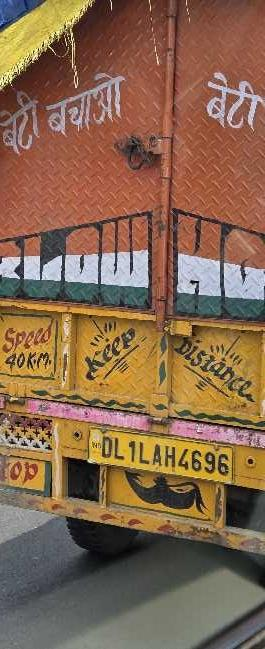License plate: (89, 428, 234, 483)
